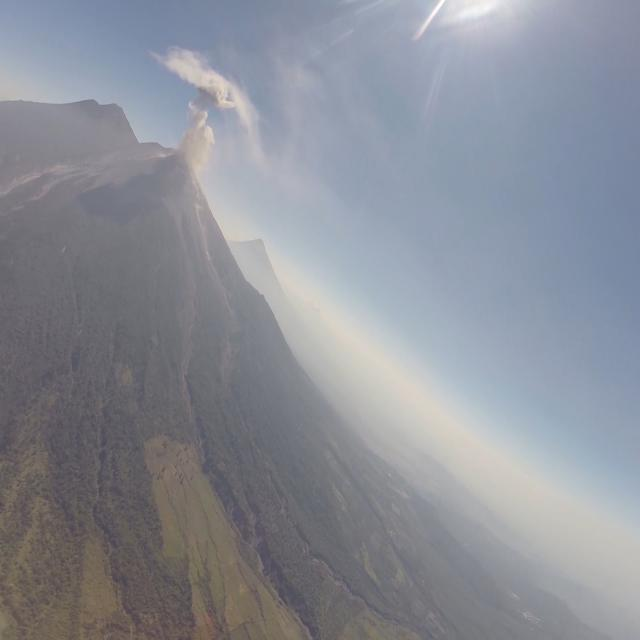Plume: (163, 45, 240, 111), (180, 94, 218, 177)
